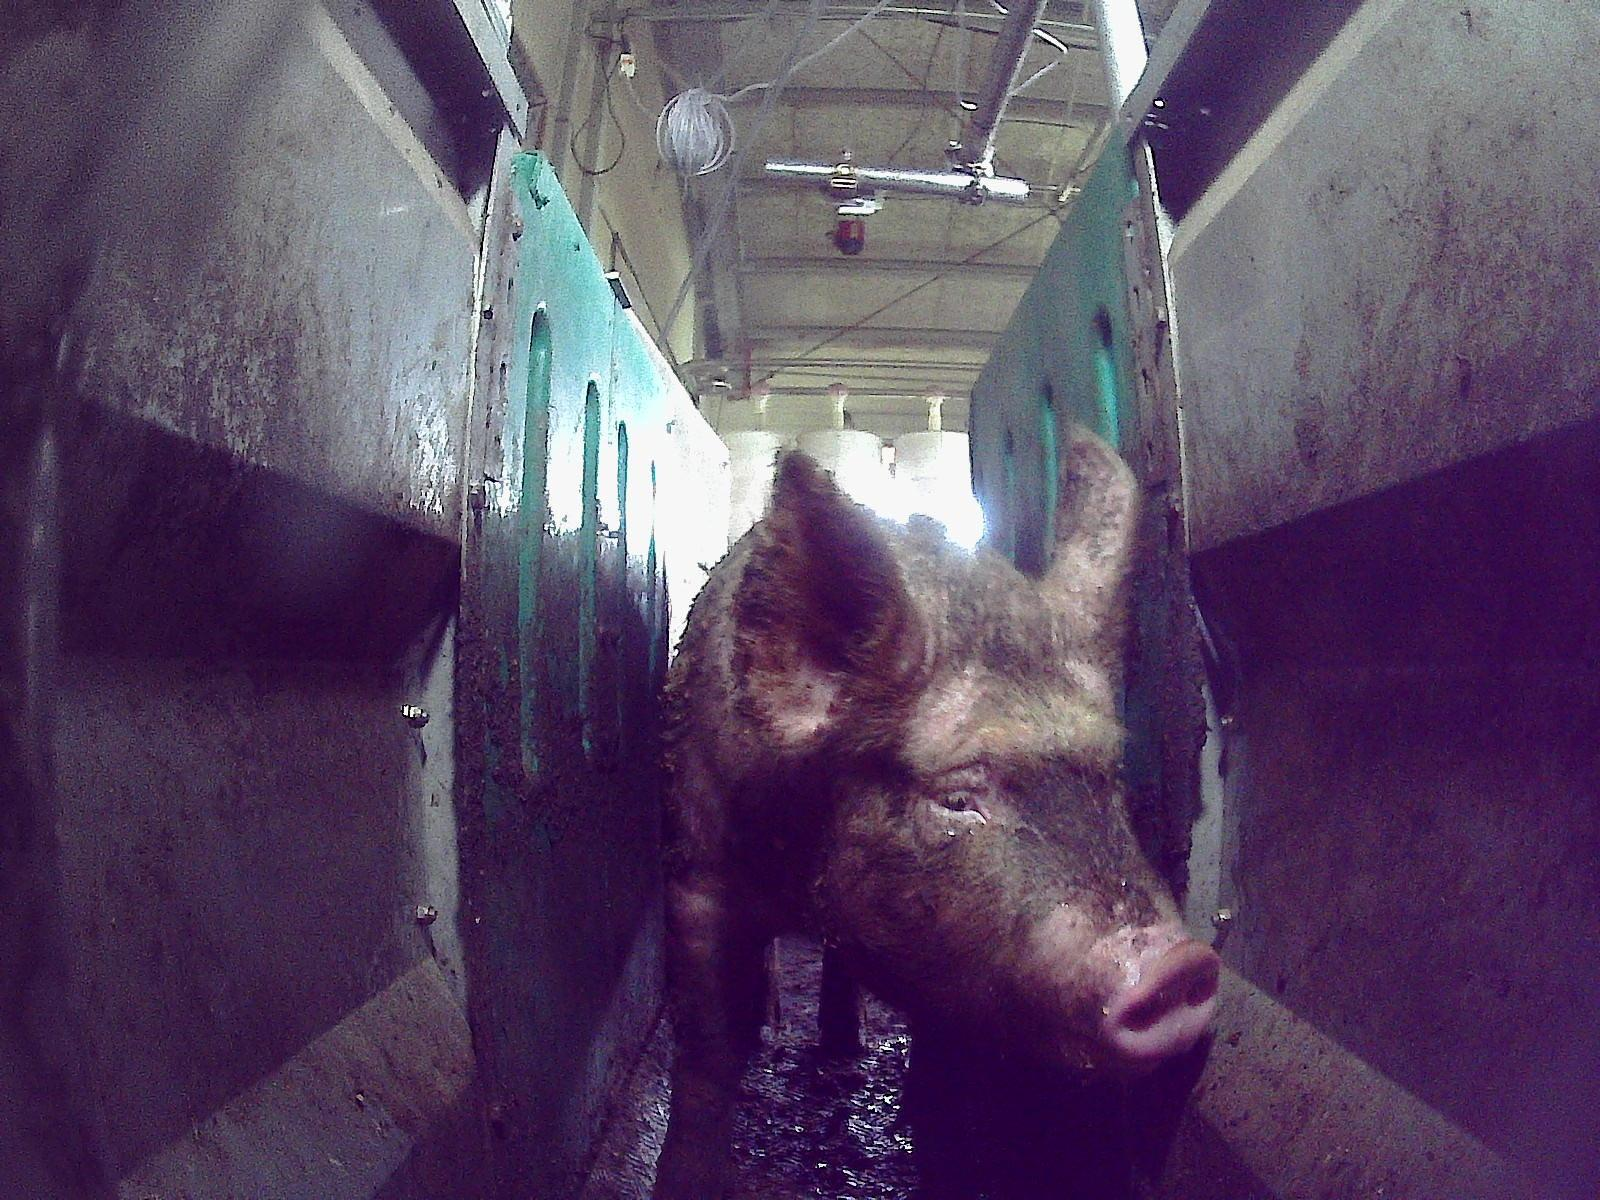Face: (785, 537, 1217, 1086)
